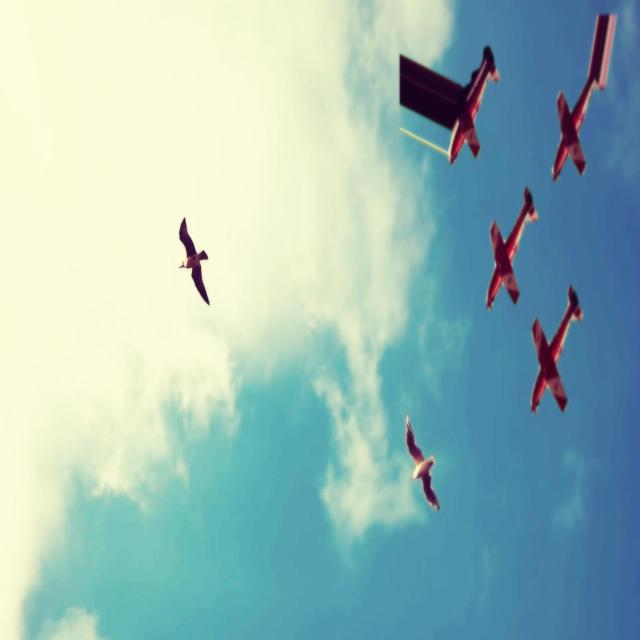airplane: (398, 44, 500, 165), (551, 12, 617, 182), (530, 284, 583, 414), (486, 185, 538, 310)
